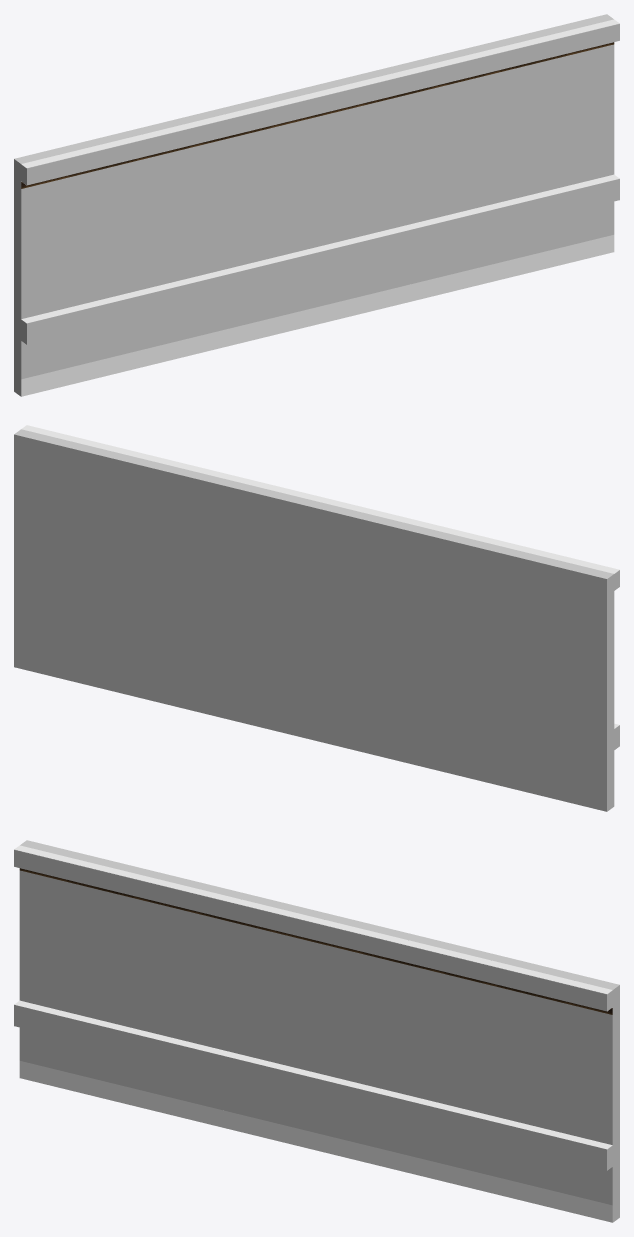
The model's file is Wall_A_Exterior_Window_02_x8.fbx.
3 renders of one model, top to bottom at view 1: azimuth 30°, elevation 25°; view 2: azimuth 150°, elevation 25°; view 3: azimuth 330°, elevation 25°, orthographic.
Visible parts, largest first — view 1: C_Wall_A_Exterior_Window_02_x8, Wall_A_Exterior_Window_02_x8; view 2: C_Wall_A_Exterior_Window_02_x8, Wall_A_Exterior_Window_02_x8; view 3: C_Wall_A_Exterior_Window_02_x8, Wall_A_Exterior_Window_02_x8.
Boxes of the visible parts, x1=… form: C_Wall_A_Exterior_Window_02_x8: x1=14, y1=14, x2=619, y2=396; Wall_A_Exterior_Window_02_x8: x1=21, y1=19, x2=619, y2=396; C_Wall_A_Exterior_Window_02_x8: x1=14, y1=429, x2=619, y2=811; Wall_A_Exterior_Window_02_x8: x1=21, y1=425, x2=619, y2=728; C_Wall_A_Exterior_Window_02_x8: x1=14, y1=840, x2=619, y2=1222; Wall_A_Exterior_Window_02_x8: x1=14, y1=845, x2=612, y2=1222.
Size of the model in its own units: 8 by 3 by 0.3017.
